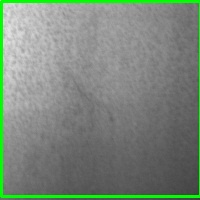pitted_surface: (1, 1, 200, 196)
